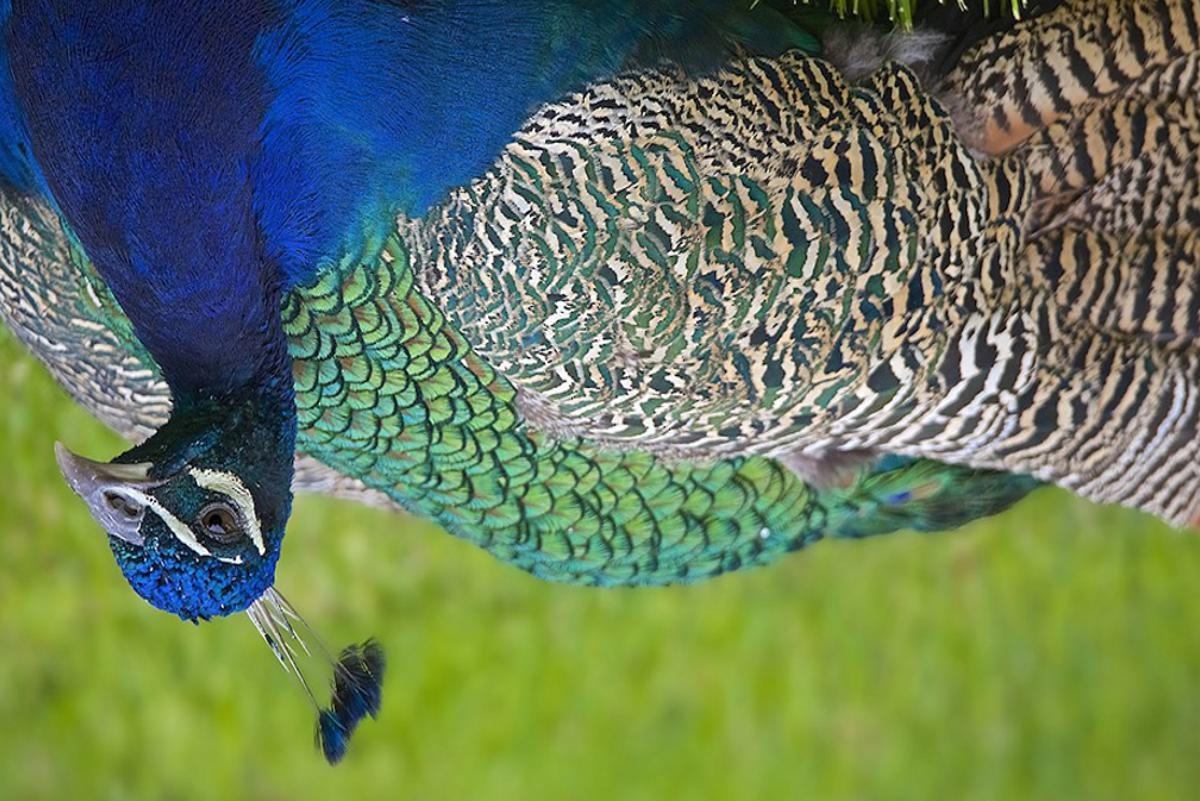peacock: (17, 35, 1200, 732)
